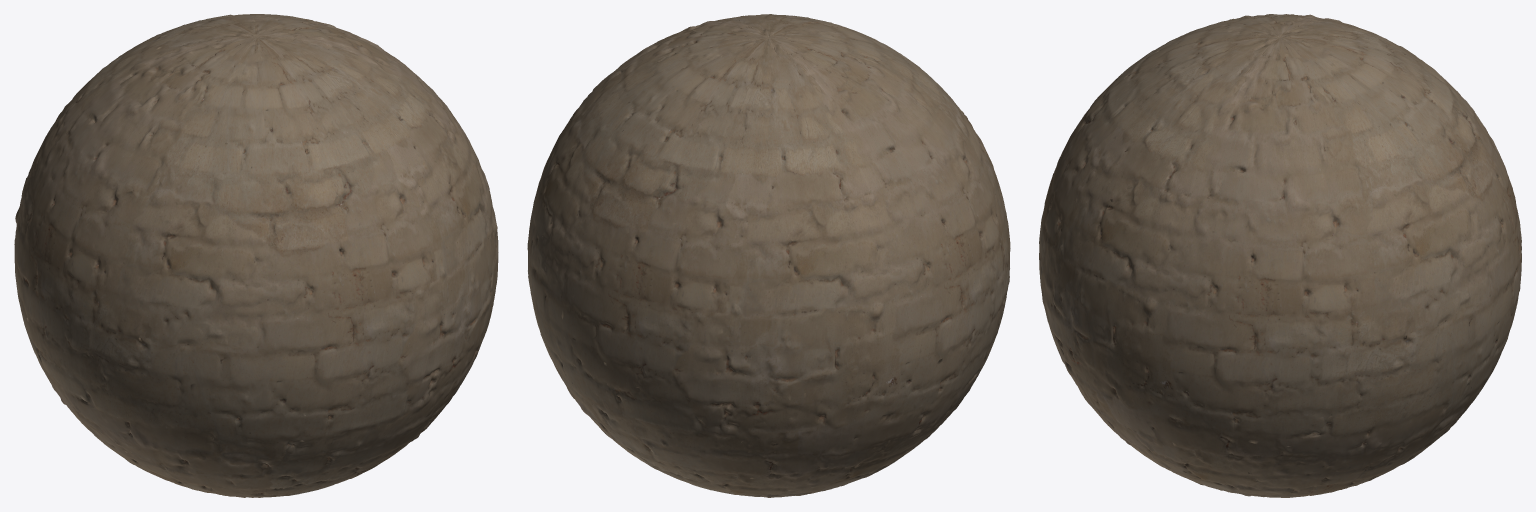
The model's file is slumped_mortar_brick_2k.gltf.
3 views of the same model, side by side, from view 1: azimuth 30°, elevation 25°; view 2: azimuth 150°, elevation 25°; view 3: azimuth 270°, elevation 25° (orthographic).
Visible parts, largest first — view 1: sphere_gltf; view 2: sphere_gltf; view 3: sphere_gltf.
Part boxes in pixels (<box>): sphere_gltf: <box>14,14,498,497</box>; sphere_gltf: <box>527,14,1010,497</box>; sphere_gltf: <box>1039,14,1521,497</box>.
Size of the model in its own units: 1.77 by 1.78 by 1.77.
Materials: 1 (1 with a texture image).
